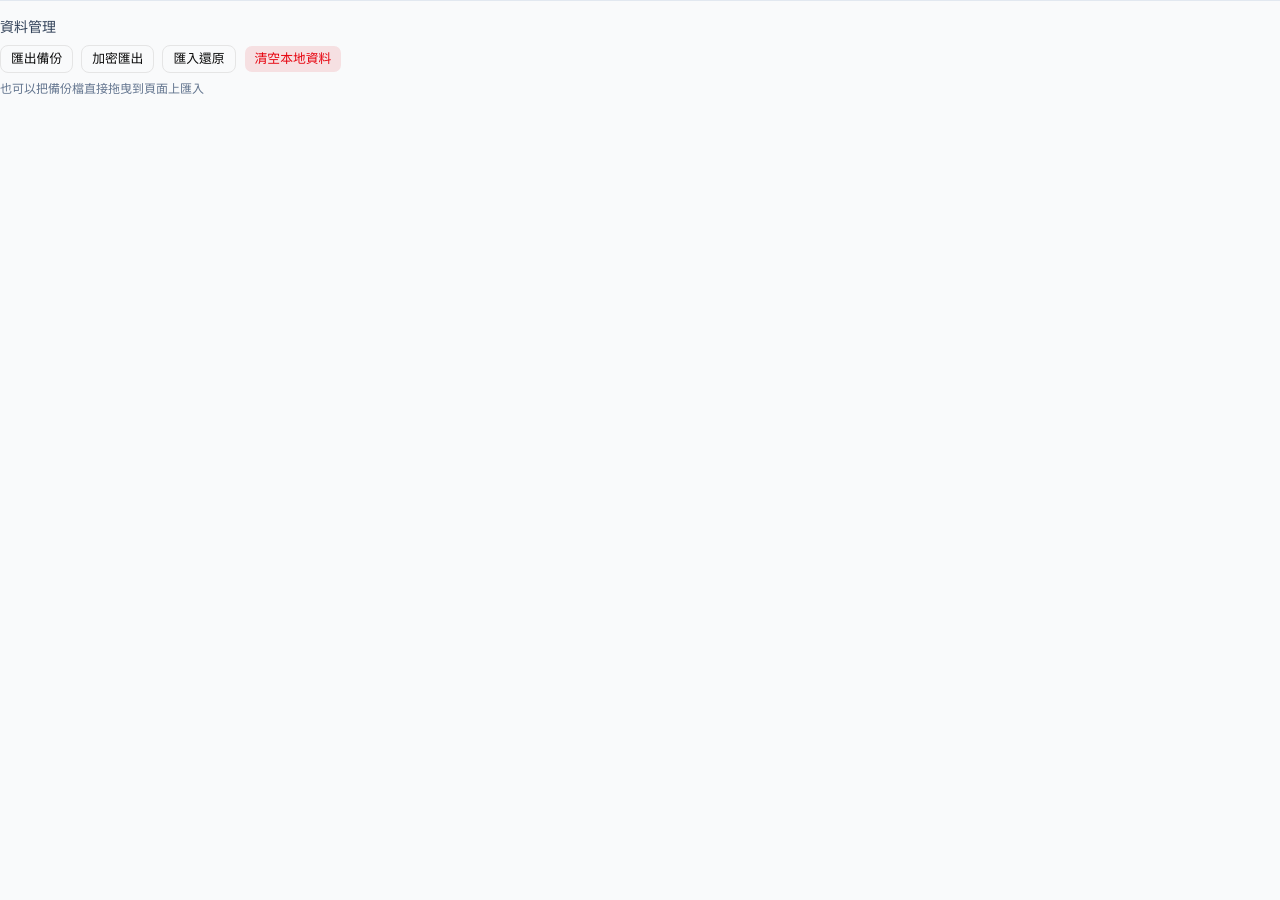
Scenario: DataManagement › 加密匯出 › 兩次密碼不一致：顯示錯誤，不呼叫匯出
Click the button "加密匯出": x=118, y=59 [81,45,154,73]
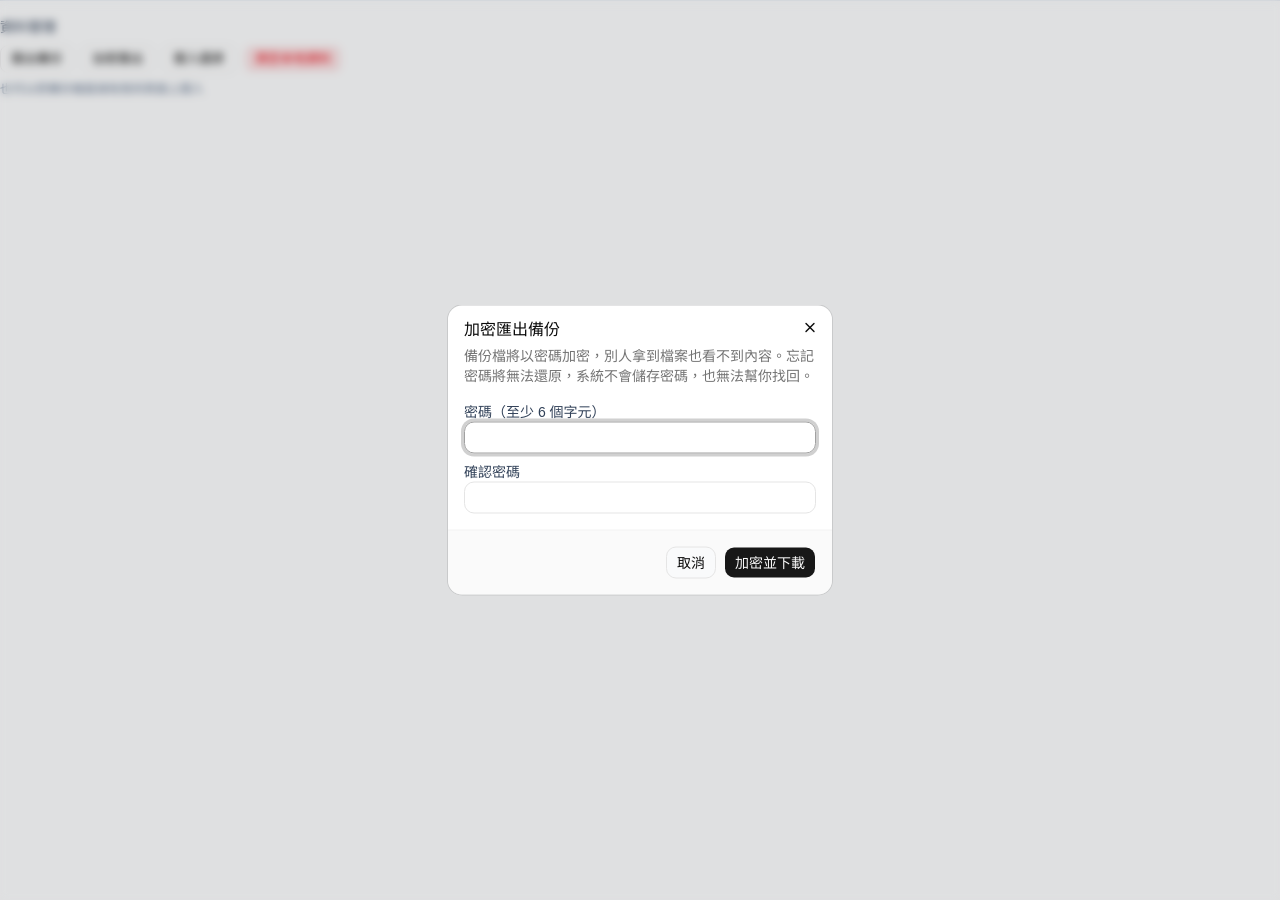
In the password field named "加密密碼": x=640, y=438 [464,422,816,454], type "correct-horse"
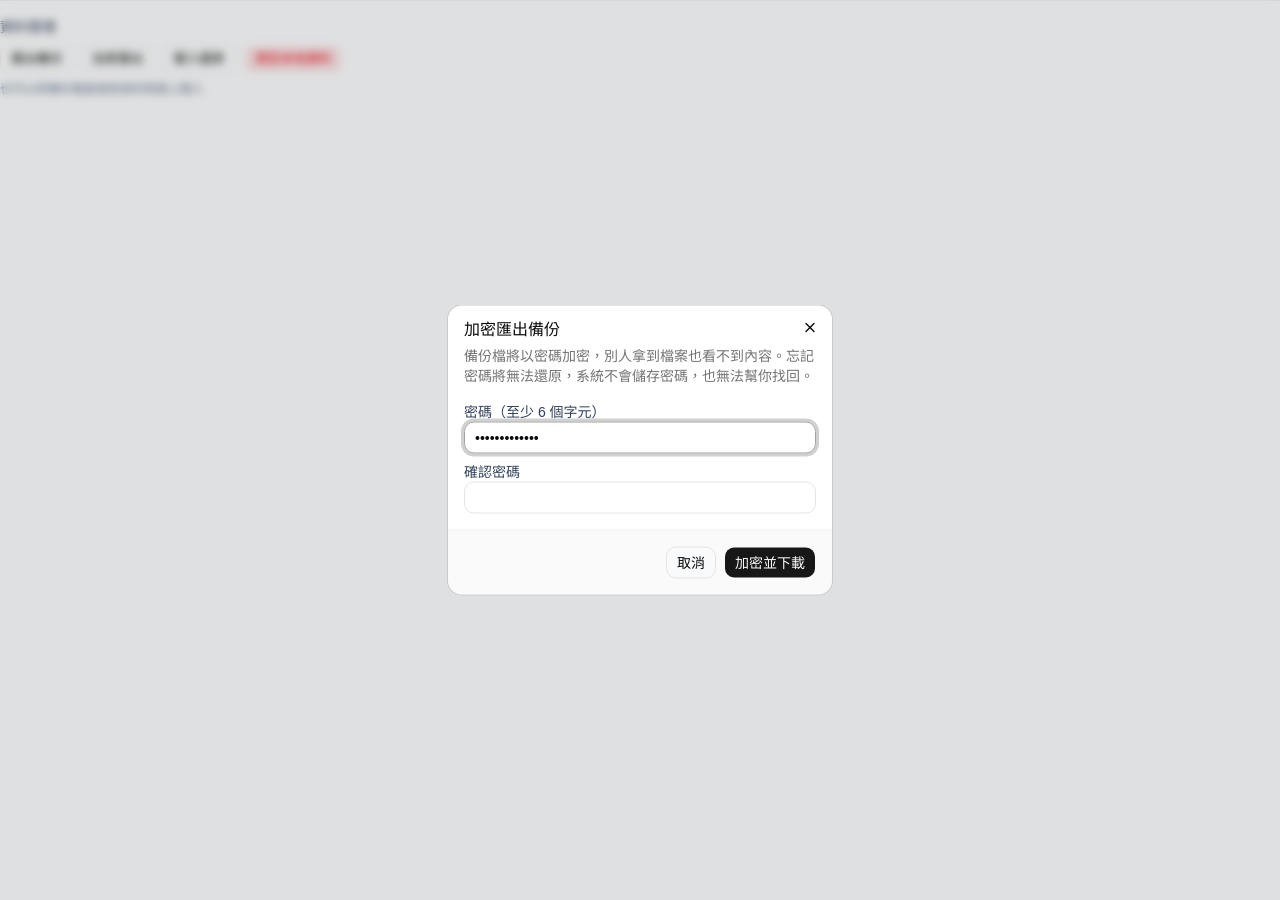
In the password field named "確認加密密碼": x=640, y=498 [464,482,816,514], type "correct-horsE"
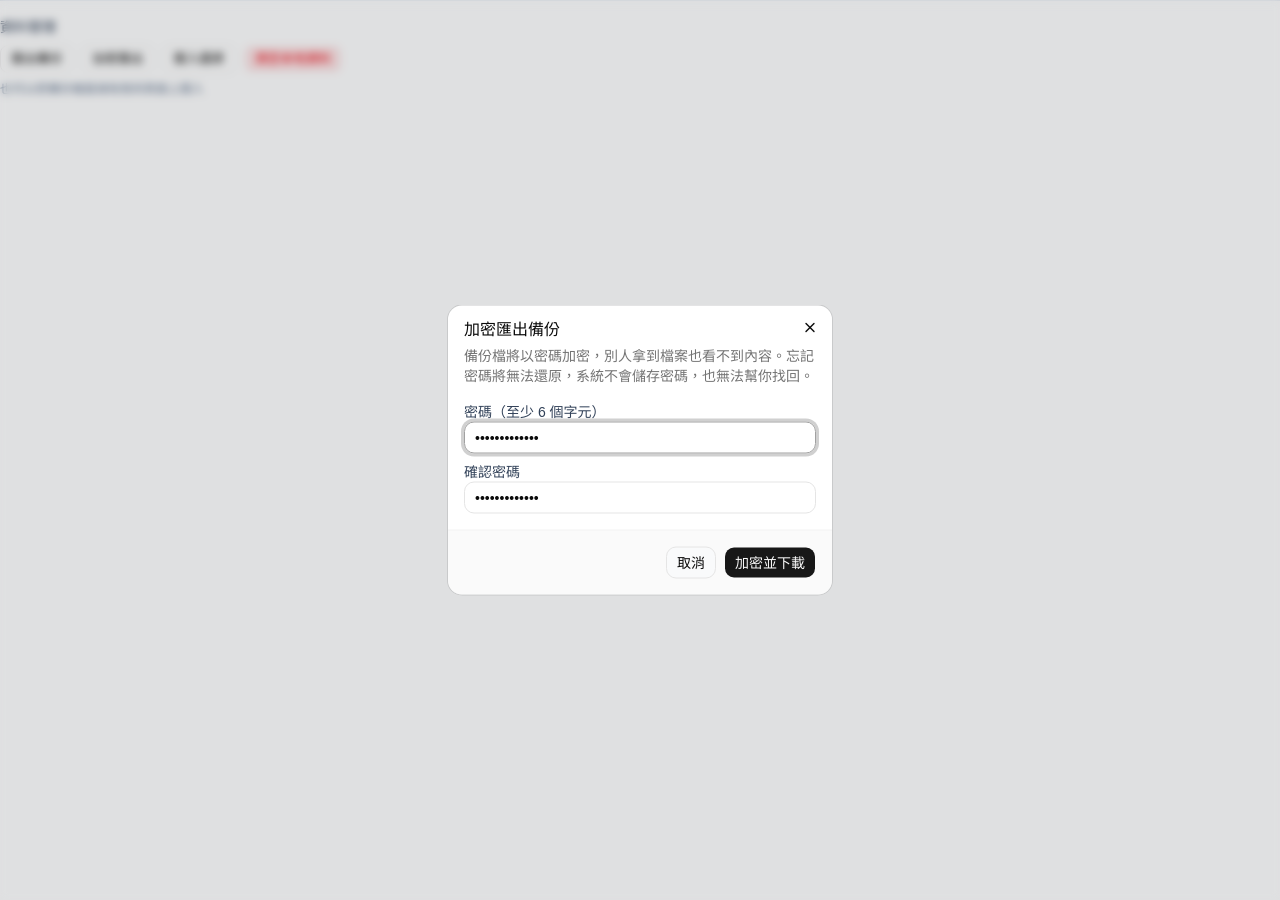
Click the button "加密並下載": x=770, y=562 [724,546,816,578]
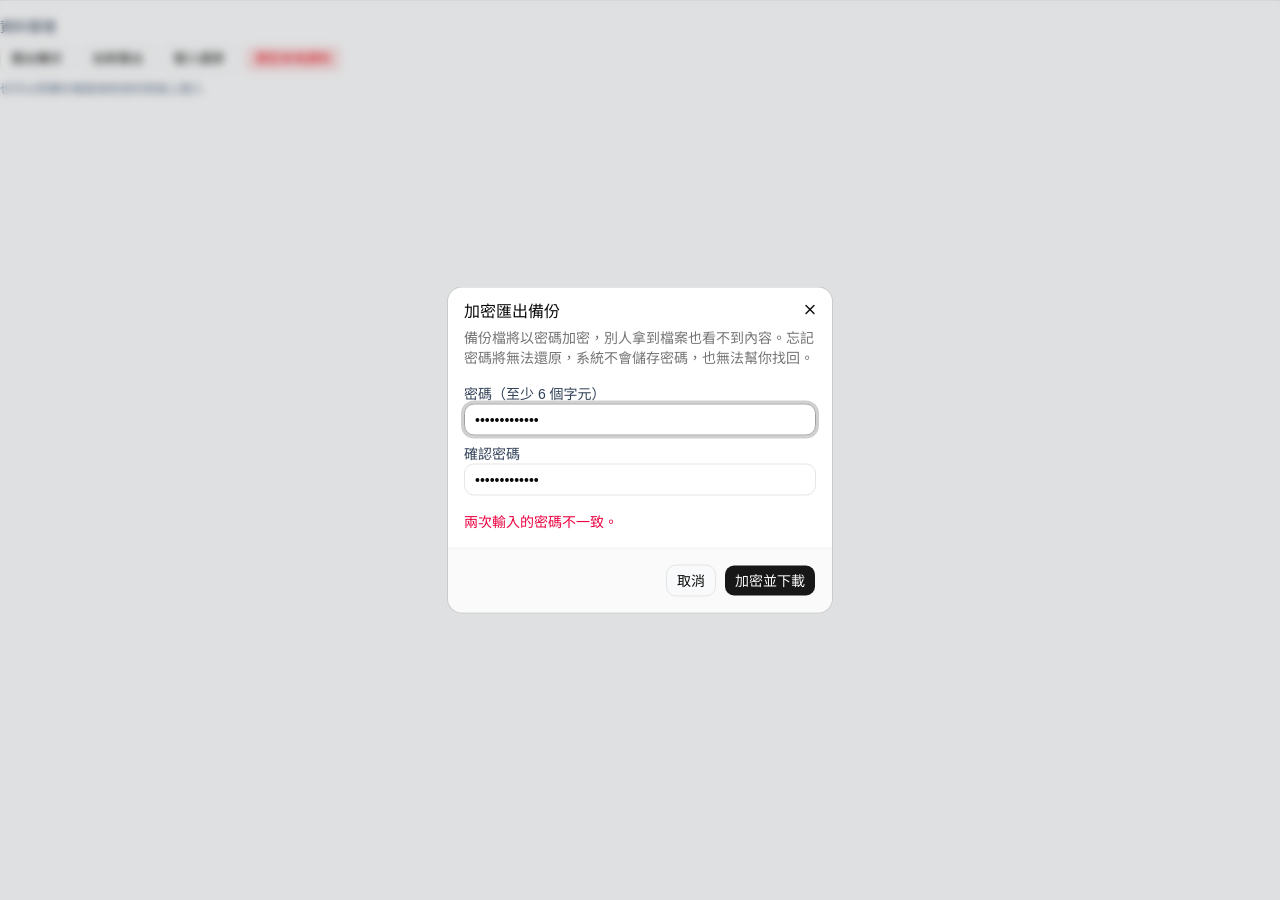
Check: the text with test id "encrypt-error" shows "兩次輸入的密碼不一致", box [464,514,618,530]
